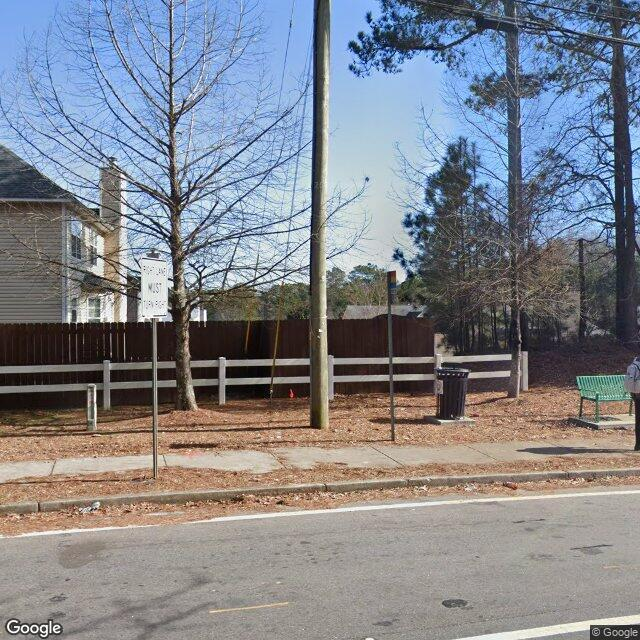seating: (576, 372, 638, 423)
trash_can: (434, 364, 472, 420)
